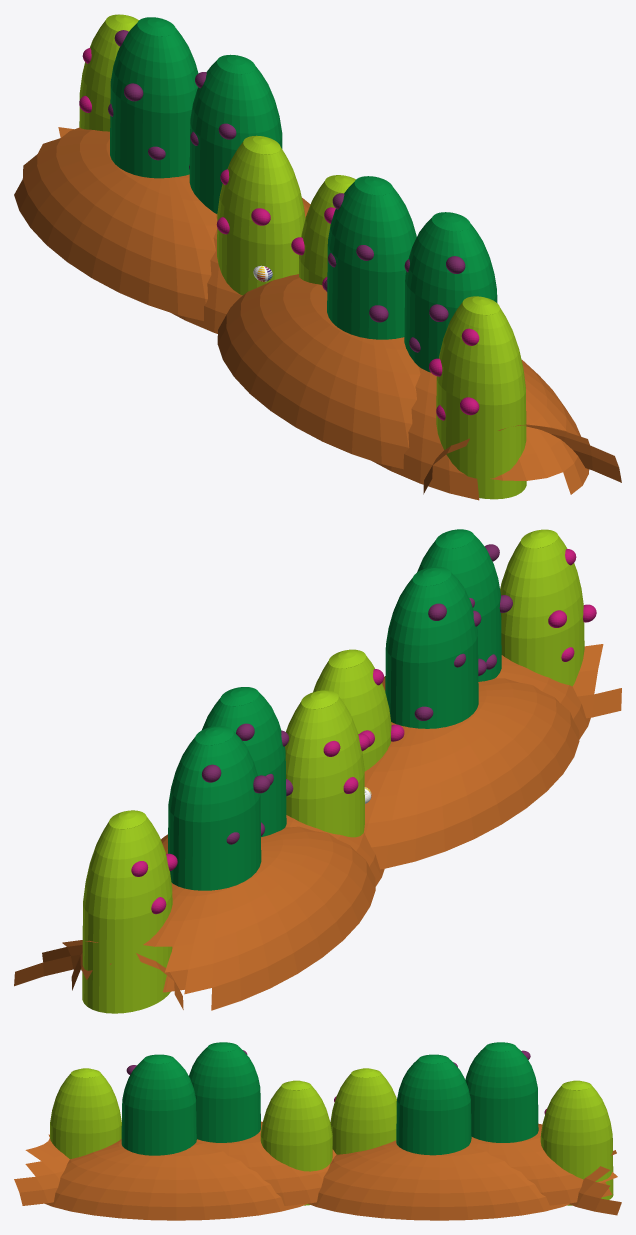
The model's file is MiniCactus.fbx.
The picture shows the model from 3 angles, top to bottom: view 1: azimuth 30°, elevation 25°; view 2: azimuth 150°, elevation 25°; view 3: azimuth 270°, elevation 25°; orthographic projection. The views are drawn at different scales.
Parts seen in each view (by area): view 1: Sphere.006; view 2: Sphere.006; view 3: Sphere.006.
Part boxes in pixels (left/top/right/bottom): Sphere.006: left=14, top=14, right=621, bottom=500; Sphere.006: left=14, top=529, right=621, bottom=1013; Sphere.006: left=14, top=1042, right=621, bottom=1220.
Size of the model in its own units: 167 by 159 by 613.
1 material, 1 textured.
